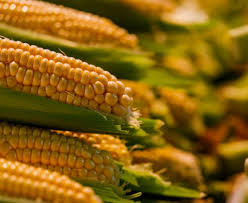milho: (1, 1, 148, 199)
